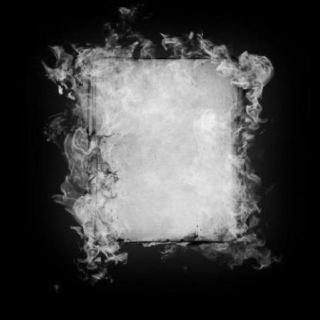Fire: (46, 35, 277, 271)
